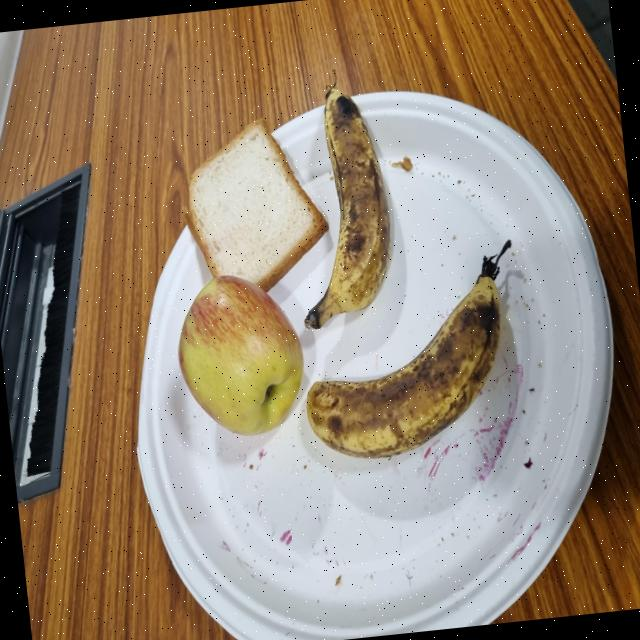apple: (159, 244, 277, 413)
banana: (149, 409, 288, 640), (244, 416, 421, 535)
